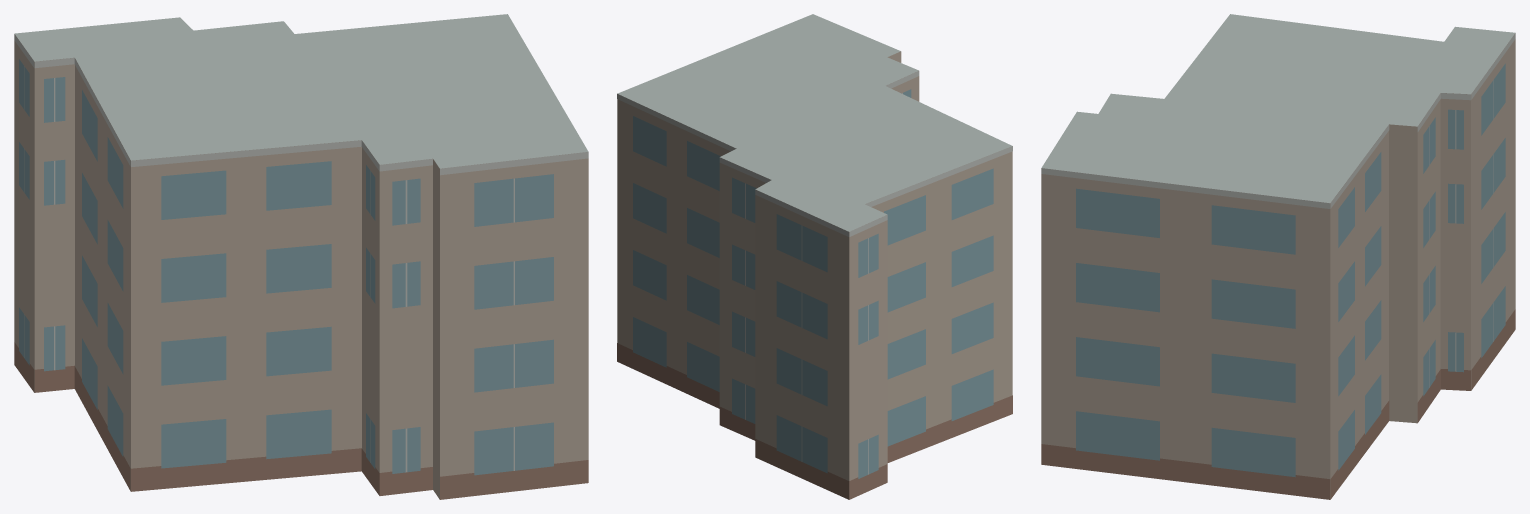
The model's file is survey-upis-32681403.glb.
The picture shows the model from 3 angles, left to right: view 1: azimuth 30°, elevation 25°; view 2: azimuth 150°, elevation 25°; view 3: azimuth 270°, elevation 25°; orthographic projection. The views are drawn at different scales.
Parts seen in each view (by area): view 1: survey-upis-32681403.tmp; view 2: survey-upis-32681403.tmp; view 3: survey-upis-32681403.tmp.
Boxes of the visible parts, <box> form: survey-upis-32681403.tmp: <box>14,14,588,499</box>; survey-upis-32681403.tmp: <box>617,14,1012,499</box>; survey-upis-32681403.tmp: <box>1041,14,1515,499</box>.
Size of the model in its own units: 16.7 by 12.2 by 17.69.
